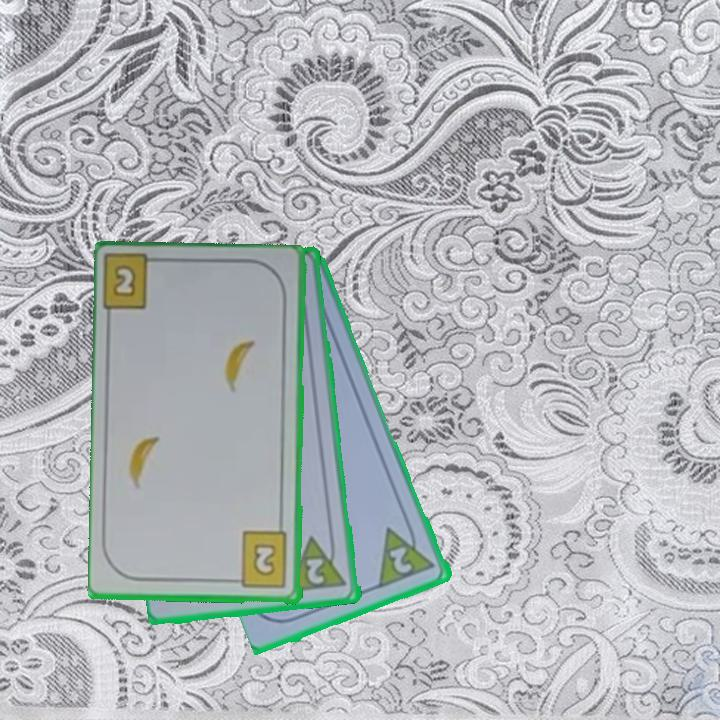2b: (229, 529, 291, 591), (110, 261, 139, 301)
2p: (375, 517, 439, 591), (286, 531, 350, 596)
